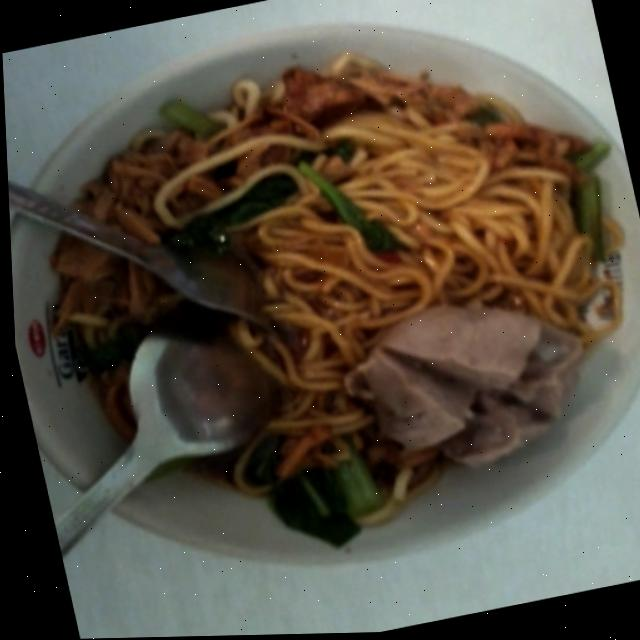面条主食: (1, 9, 640, 587)
